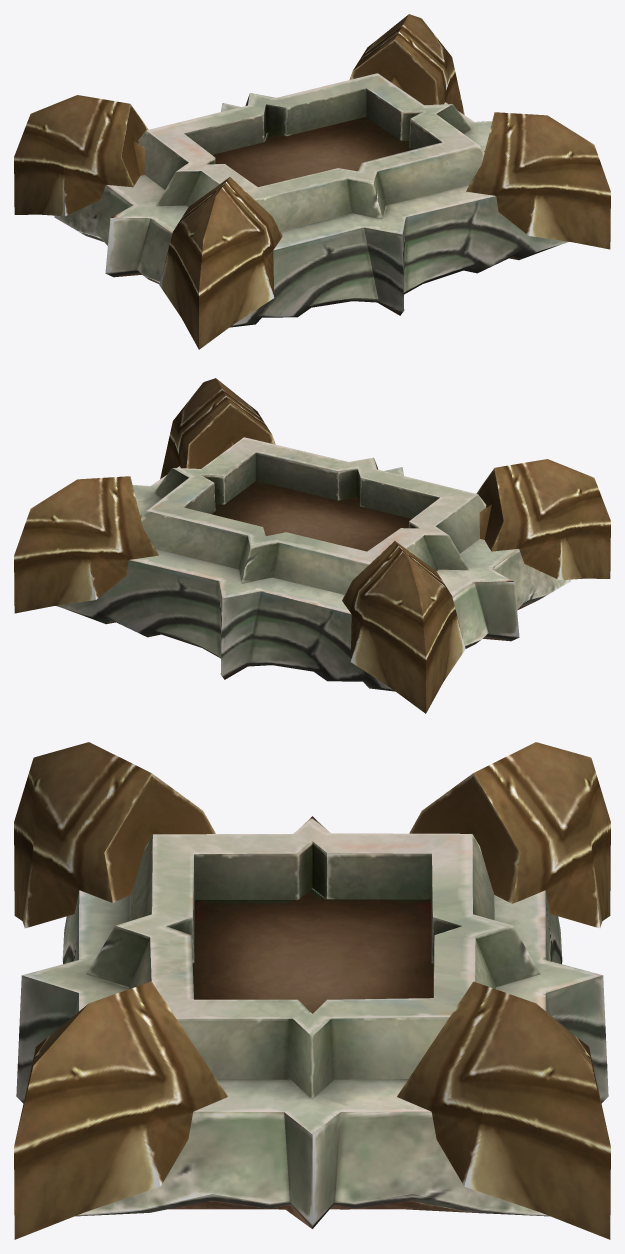
Rendered from baoxiang003_A.fbx.
The picture shows the model from 3 angles, top to bottom: view 1: azimuth 30°, elevation 25°; view 2: azimuth 150°, elevation 25°; view 3: azimuth 270°, elevation 25°; orthographic projection. The views are drawn at different scales.
Parts seen in each view (by area): view 1: baoxiang003_A; view 2: baoxiang003_A; view 3: baoxiang003_A.
Part boxes in pixels (box(x1,y1,x2,y2)): baoxiang003_A: box(14, 14, 610, 349); baoxiang003_A: box(14, 378, 610, 713); baoxiang003_A: box(14, 742, 610, 1239).
Bounding box in the file's own units: 179 × 60.56 × 138.
